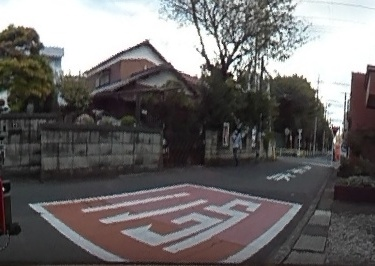person: (230, 127, 242, 166)
